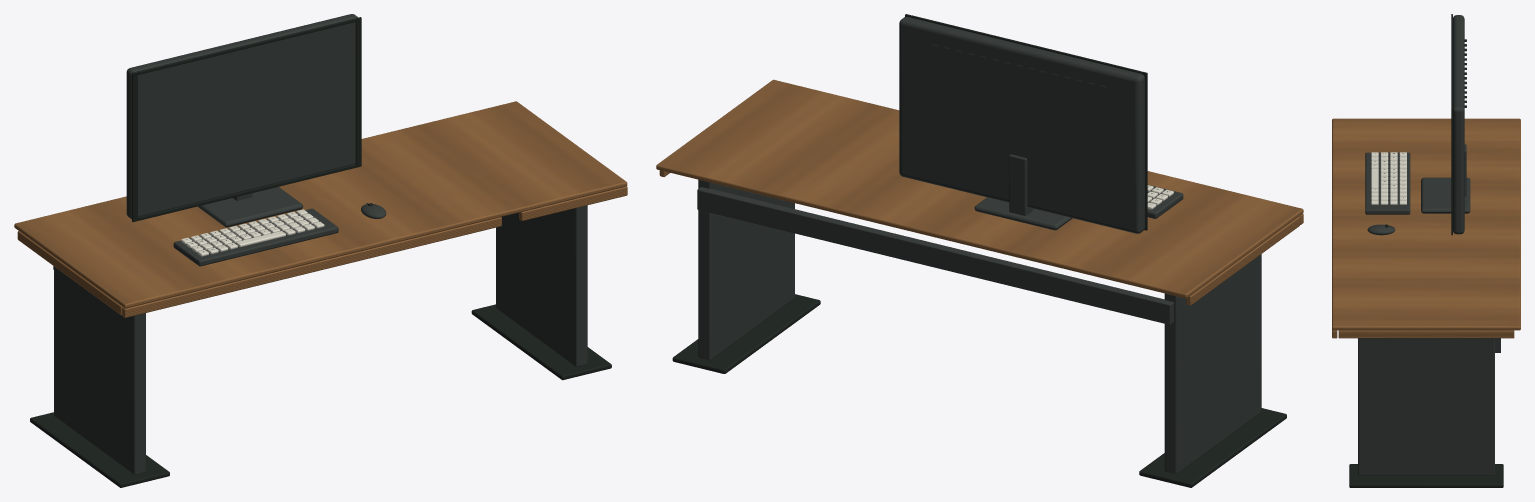
Rendered from workbench.glb.
3 views of the same model, side by side, from view 1: azimuth 30°, elevation 25°; view 2: azimuth 150°, elevation 25°; view 3: azimuth 270°, elevation 25° (orthographic). The views are drawn at different scales.
Parts seen in each view (by area): view 1: workbench / Warm graphite steel, workbench / Desk oak edge, workbench / Soft black feet, workbench / Ivory note paper; view 2: workbench / Warm graphite steel, workbench / Desk oak edge, workbench / Soft black feet; view 3: workbench / Desk oak edge, workbench / Warm graphite steel, workbench / Soft black feet, workbench / Ivory note paper.
Boxes of the visible parts, x1,y1,x2,y2 form: workbench / Warm graphite steel: (53,14,587,474); workbench / Desk oak edge: (14,101,627,317); workbench / Soft black feet: (30,17,611,487); workbench / Ivory note paper: (181,209,324,256); workbench / Warm graphite steel: (697,16,1261,474); workbench / Desk oak edge: (656,79,1303,305); workbench / Soft black feet: (672,14,1286,487); workbench / Desk oak edge: (1332,118,1520,338); workbench / Warm graphite steel: (1358,15,1500,476); workbench / Soft black feet: (1349,14,1503,487); workbench / Ivory note paper: (1371,152,1406,204).
Bounding box in the file's own units: 2.3 × 1.55 × 0.88.
Materials: 4 (1 with a texture image).
